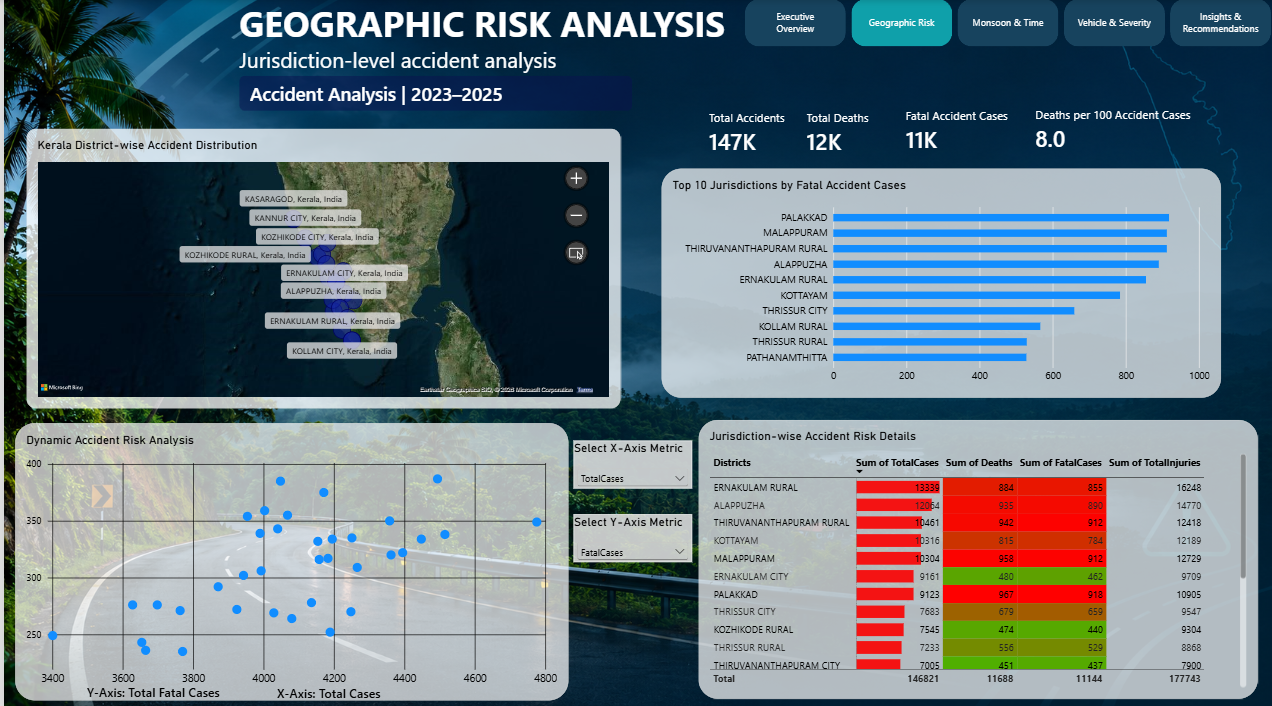

What the dashboard file says about the page in this screenshot:
{"tool":"powerbi","page":{"name":"Geographic Risk","canvas":[1920,1080],"ordinal":1},"visuals":[{"type":"textbox","box":[356,0,748,122],"z":0},{"type":"cardVisual","fields":{"Data":["Calculation_tbl.Deaths per 100 Accident Cases"]},"box":[1546,142,272,110],"z":1000},{"type":"cardVisual","fields":{"Data":["FactMonthlyAccidents.Total Accidents"]},"box":[1050,156,150,96],"z":2000},{"type":"cardVisual","fields":{"Data":["FactMonthlyAccidents.Total Deaths"]},"box":[1200,150,170,106],"z":3000},{"type":"cardVisual","fields":{"Data":["FactMonthlyAccidents.Fatal Accident Cases"]},"box":[1350,146,196,110],"z":4000},{"type":"map","title":"Kerala District-wise Accident Distribution","fields":{"Category":["DimJurisdiction.District Location"],"Size":["Sum(FactAccidentCause.TotalCases)"]},"box":[34,196.1,899.6,423.7],"z":5000},{"type":"clusteredBarChart","title":"Top 10 Jurisdictions by Fatal Accident Cases","fields":{"Category":["DimJurisdiction.Column1"],"Y":["Sum(FactPoliceJurisdiction.FatalCases)"]},"box":[995.5,256.7,846.7,346.7],"z":6000},{"type":"scatterChart","title":"Dynamic Accident Risk Analysis","fields":{"X":["FactMonthlyAccidents.TotalCases"],"Y":["FactMonthlyAccidents.FatalCases"]},"box":[17.5,642.5,837.5,420],"z":7000},{"type":"tableEx","title":"Jurisdiction-wise Accident Risk Details","fields":{"Values":["DimJurisdiction.Column1","Sum(FactPoliceJurisdiction.TotalCases)","Sum(FactPoliceJurisdiction.Deaths)","Sum(FactPoliceJurisdiction.FatalCases)","Sum(FactPoliceJurisdiction.TotalInjuries)"]},"box":[1051.2,637,846.7,422.2],"z":8000},{"type":"pageNavigator","box":[1120.8,0,798.4,72.6],"z":10000},{"type":"cardVisual","fields":{"Data":["Calculation_tbl.Dynamic Report Subtitle"]},"box":[356,116,595.8,53.3],"z":11000},{"type":"slicer","title":"Select X-Axis Metric","fields":{"Values":["X Axis Analysis.X Axis Analysis"]},"box":[862.2,668.5,179.2,72.7],"z":12000},{"type":"slicer","title":"Select Y-Axis Metric","fields":{"Values":["Y Axis Analysis.Y Axis Analysis"]},"box":[862.2,779.9,179.2,72.7],"z":13000},{"type":"cardVisual","fields":{"Data":["Calculation_tbl.X Axis Dynamic Title"]},"box":[397.5,1040,280,22.5],"z":13001},{"type":"cardVisual","fields":{"Data":["Calculation_tbl.Y Axis Dynamic Title"]},"box":[107.5,1040,290,20],"z":13003}]}

Visuals, with their boxes in screenshot pixels (x1, y1, x2, y2), scaled from the page's 1920x1080 canvas onto the 1272x706 screenshot:
textbox: (left=236, top=0, right=731, bottom=80)
cardVisual - Calculation_tbl.Deaths per 100 Accident Cases: (left=1024, top=93, right=1204, bottom=165)
cardVisual - FactMonthlyAccidents.Total Accidents: (left=696, top=102, right=795, bottom=165)
cardVisual - FactMonthlyAccidents.Total Deaths: (left=795, top=98, right=908, bottom=167)
cardVisual - FactMonthlyAccidents.Fatal Accident Cases: (left=894, top=95, right=1024, bottom=167)
"Kerala District-wise Accident Distribution" map: (left=23, top=128, right=619, bottom=405)
"Top 10 Jurisdictions by Fatal Accident Cases" clusteredBarChart: (left=660, top=168, right=1220, bottom=394)
"Dynamic Accident Risk Analysis" scatterChart: (left=12, top=420, right=566, bottom=695)
"Jurisdiction-wise Accident Risk Details" tableEx: (left=696, top=416, right=1257, bottom=692)
pageNavigator: (left=743, top=0, right=1271, bottom=47)
cardVisual - Calculation_tbl.Dynamic Report Subtitle: (left=236, top=76, right=631, bottom=111)
"Select X-Axis Metric" slicer: (left=571, top=437, right=690, bottom=485)
"Select Y-Axis Metric" slicer: (left=571, top=510, right=690, bottom=557)
cardVisual - Calculation_tbl.X Axis Dynamic Title: (left=263, top=680, right=449, bottom=695)
cardVisual - Calculation_tbl.Y Axis Dynamic Title: (left=71, top=680, right=263, bottom=693)
